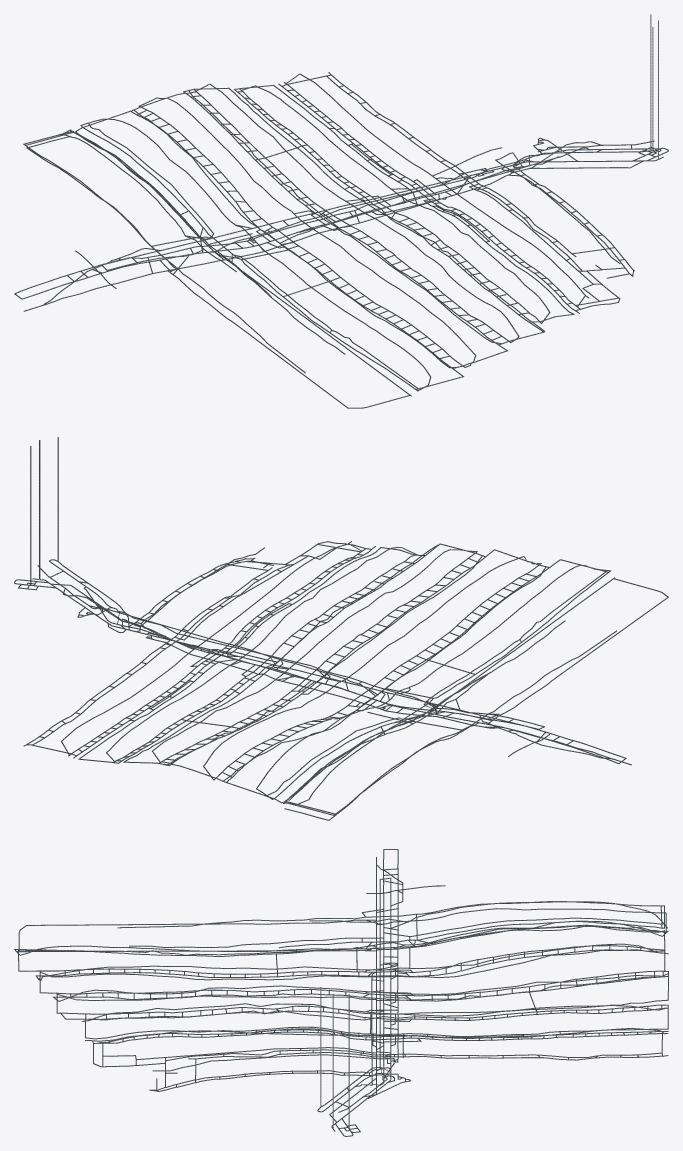
The model's file is SXBAMY.glb.
3 views of the same model, one above another, from view 1: azimuth 30°, elevation 25°; view 2: azimuth 150°, elevation 25°; view 3: azimuth 270°, elevation 25° (orthographic). The views are drawn at different scales.
Parts seen in each view (by area): view 1: no part large enough to name; view 2: no part large enough to name; view 3: ms189, ms918, ms774, ms170, ms908, ms984, ms64, ms504, ms771, ms625, ms199, ms974 (+2 smaller).
Boxes of the visible parts, x1,y1,x2,y2 form: ms189: (18,919,365,951); ms918: (53,985,379,1001); ms774: (41,965,379,979); ms170: (14,945,366,955); ms908: (41,972,375,980); ms984: (377,908,666,930); ms64: (58,994,375,1000); ms504: (81,1003,379,1021); ms771: (396,975,664,994); ms625: (106,1030,379,1042); ms199: (396,943,668,968); ms974: (408,901,667,928).
Size of the model in its own units: 2957 by 720 by 2748.
Materials: 1633 (1633 with a texture image).
